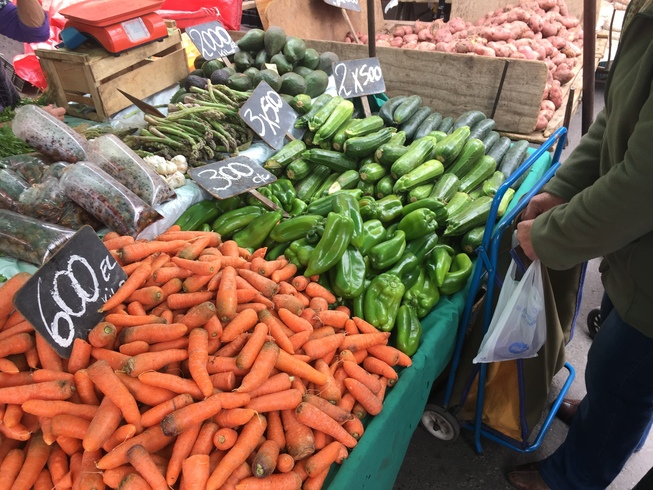precio: (7, 221, 134, 366), (182, 151, 276, 214), (234, 77, 303, 153), (181, 17, 244, 67), (330, 54, 391, 104)
